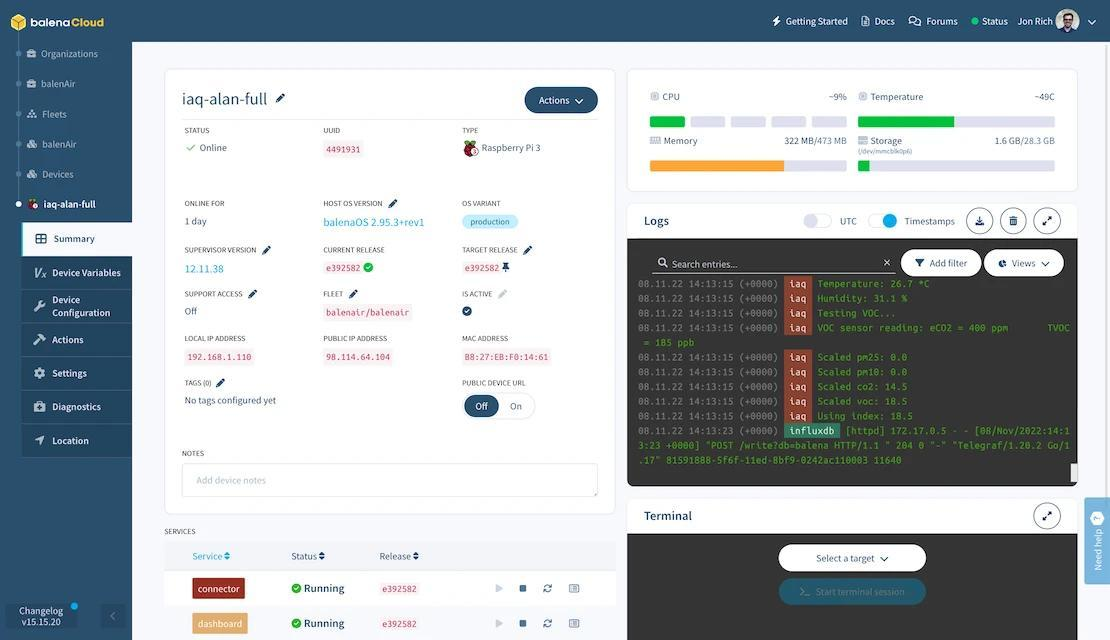button: (777, 579, 928, 607), (22, 357, 133, 393), (22, 390, 132, 425), (23, 424, 133, 459), (22, 224, 134, 258), (24, 291, 133, 324), (23, 258, 133, 290), (23, 325, 132, 357), (901, 250, 983, 279), (1086, 499, 1110, 584), (466, 396, 500, 419)
dropdown: (773, 546, 925, 574), (986, 249, 1065, 280), (526, 87, 599, 117)
icon: (1031, 502, 1065, 532), (999, 206, 1029, 237), (1034, 206, 1062, 237), (966, 207, 995, 236), (1055, 8, 1082, 39), (102, 605, 125, 629), (496, 286, 516, 304), (258, 244, 279, 261), (10, 14, 28, 33), (271, 92, 293, 107), (538, 581, 556, 598), (566, 581, 584, 598), (540, 615, 557, 633), (567, 617, 584, 634), (212, 377, 229, 393), (514, 616, 531, 632), (248, 286, 262, 303), (493, 616, 508, 631), (909, 15, 924, 30), (516, 581, 530, 597), (347, 288, 361, 303), (388, 198, 402, 212), (521, 246, 536, 259), (861, 15, 874, 30), (495, 582, 507, 598), (1086, 18, 1100, 29), (774, 16, 784, 29)
input: (183, 463, 599, 499)
label: (461, 374, 530, 388), (786, 16, 851, 29), (904, 214, 959, 229), (1016, 17, 1057, 30), (179, 447, 209, 460), (929, 18, 959, 30), (838, 217, 862, 229), (985, 18, 1010, 29), (876, 17, 895, 29), (509, 402, 525, 414)
switch: (867, 214, 899, 230), (802, 215, 833, 229)
